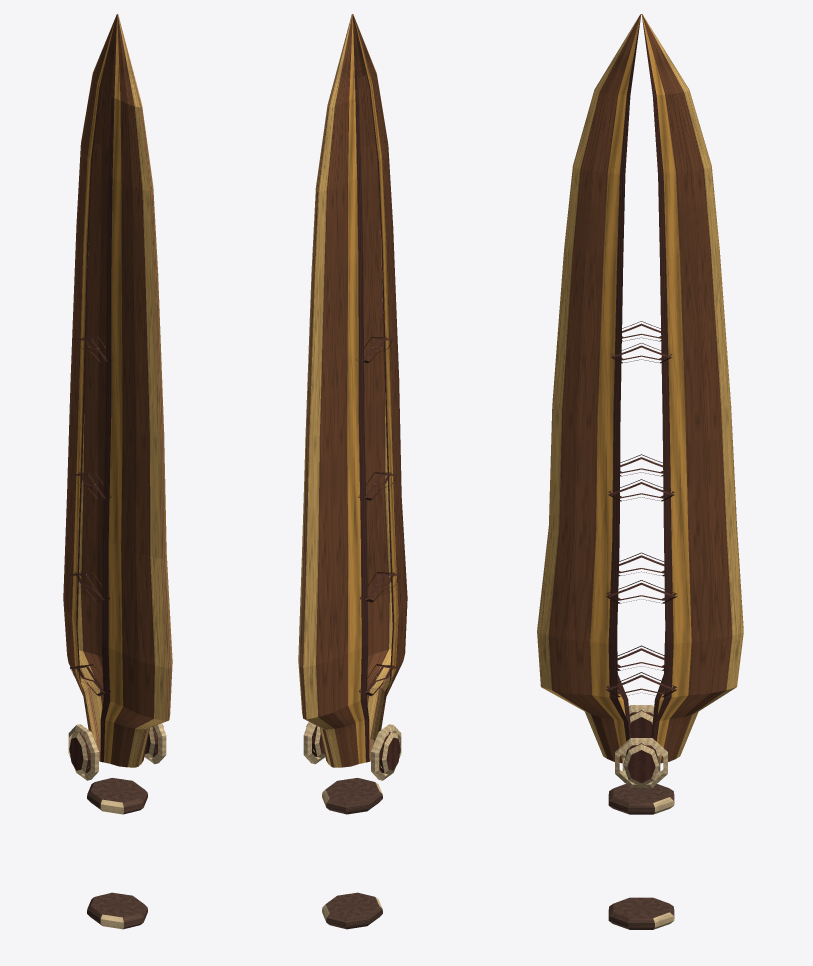
Rendered from primordial_companion_sword_golden_core.obj.
3 views of the same model, side by side, from view 1: azimuth 30°, elevation 25°; view 2: azimuth 150°, elevation 25°; view 3: azimuth 270°, elevation 25° (orthographic).
Visible parts, largest first — view 1: geometry; view 2: geometry; view 3: geometry.
Part boxes in pixels (<box>): geometry: <box>63,14,172,929</box>; geometry: <box>298,14,407,929</box>; geometry: <box>537,14,743,929</box>.
Bounding box in the file's own units: 0.1413 × 1.52 × 0.4675.
